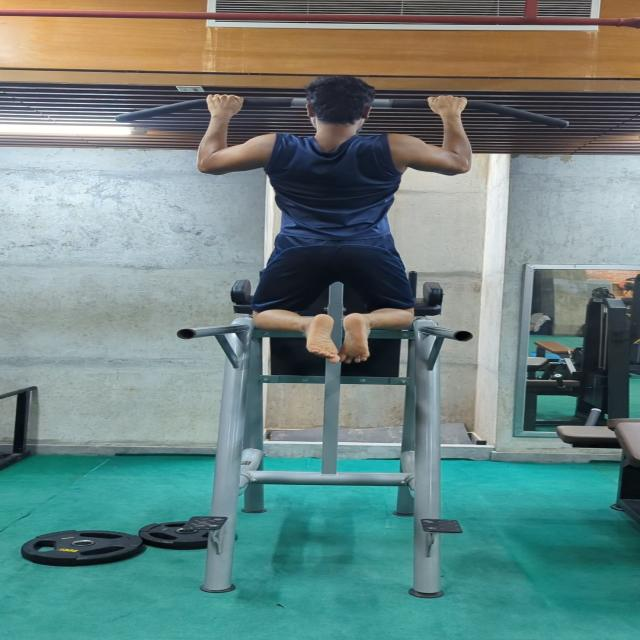Normal_PullUps: (192, 69, 488, 366)
